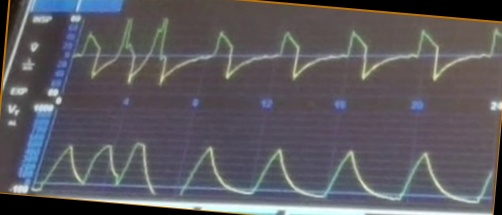Double_Triggering Flow: (74, 17, 499, 91)
Double_Triggering Volume: (39, 141, 492, 201)
